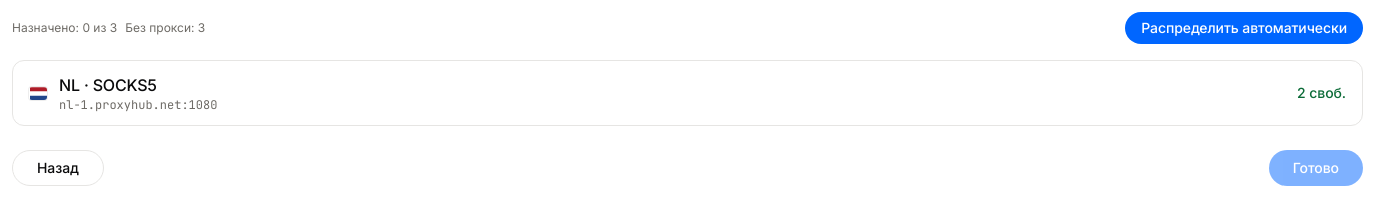
Test: three accounts on a proxy with two free slots: assigns exactly two, stays
Expected: the text "Назначено: 0 из 3" is shown, top-left (12, 20), bottom-right (117, 36)
Click the text "nl-1.proxyhub.net:1080" at (138, 105), box top-left (59, 97), bottom-right (217, 113)
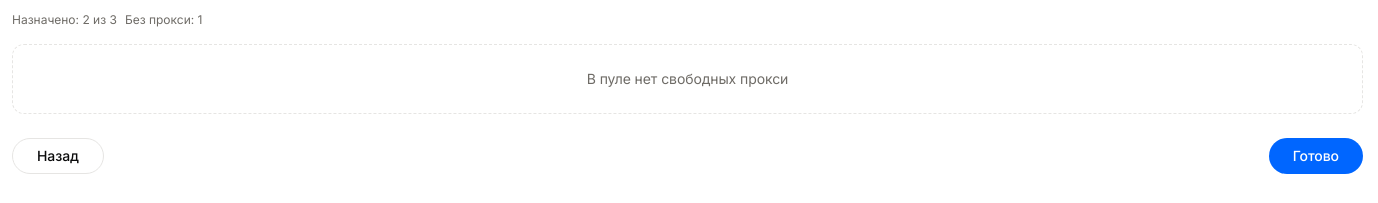
Expected: the text "Назначено: 2 из 3" is shown, top-left (12, 12), bottom-right (117, 28)
Expected: the text "Без прокси: 1" is shown, top-left (125, 12), bottom-right (202, 28)
Expected: the button "nl-1.proxyhub.net:1080" is gone
